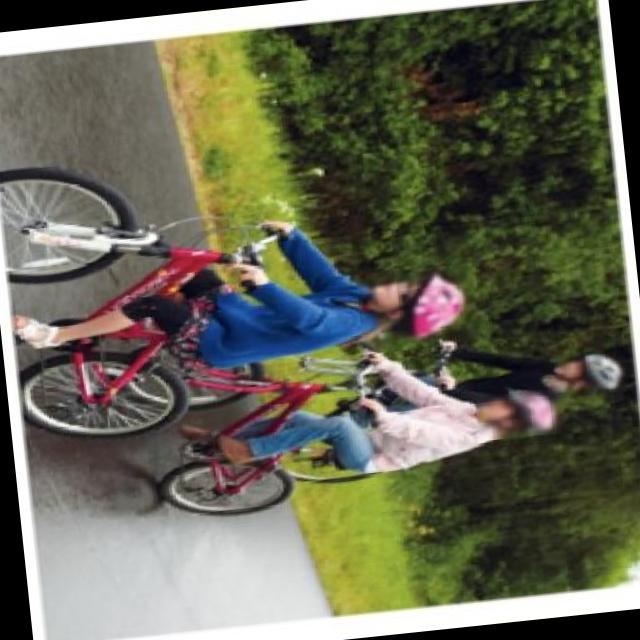With Helmet: (354, 266, 478, 347), (472, 384, 565, 440), (551, 349, 626, 397)
